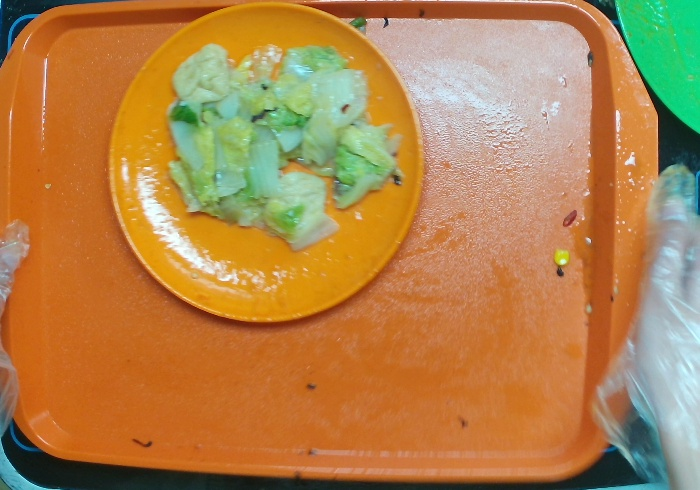HZYJPL-Ju_Huang_Yuan_Pan: (101, 1, 425, 327)
